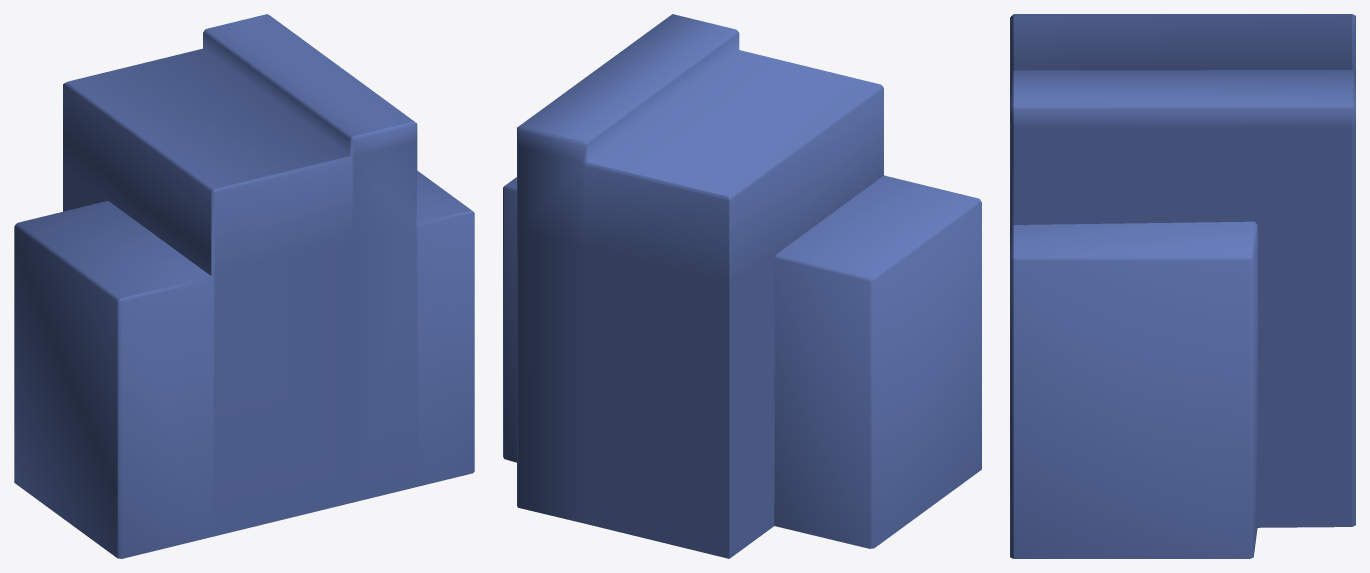
The model's file is Books_B.FBX.
3 views of the same model, side by side, from view 1: azimuth 30°, elevation 25°; view 2: azimuth 150°, elevation 25°; view 3: azimuth 270°, elevation 25° (orthographic). The views are drawn at different scales.
Visible parts, largest first — view 1: Books_B; view 2: Books_B; view 3: Books_B.
Boxes of the visible parts, x1,y1,x2,y2 form: Books_B: (14,14,474,558); Books_B: (503,14,981,558); Books_B: (1010,14,1355,558).
Bounding box in the file's own units: 27.27 × 26.71 × 19.85.
